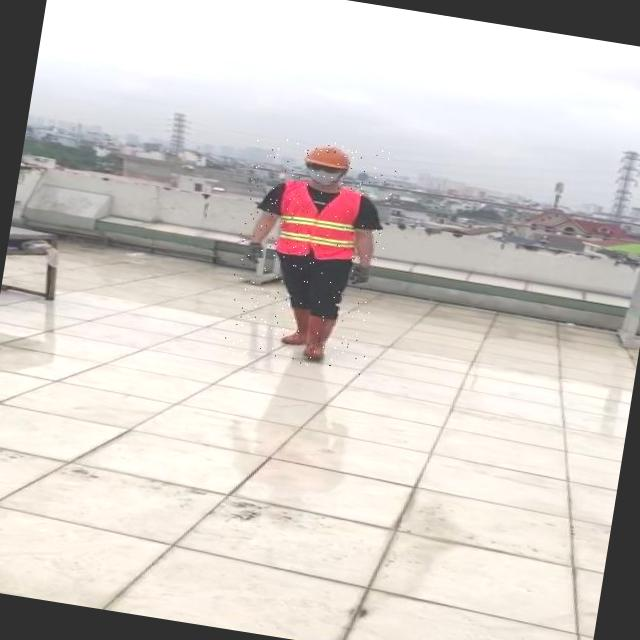boots: (297, 312, 342, 364), (278, 309, 309, 345)
helmet: (299, 142, 357, 174)
vest: (275, 179, 364, 264)
